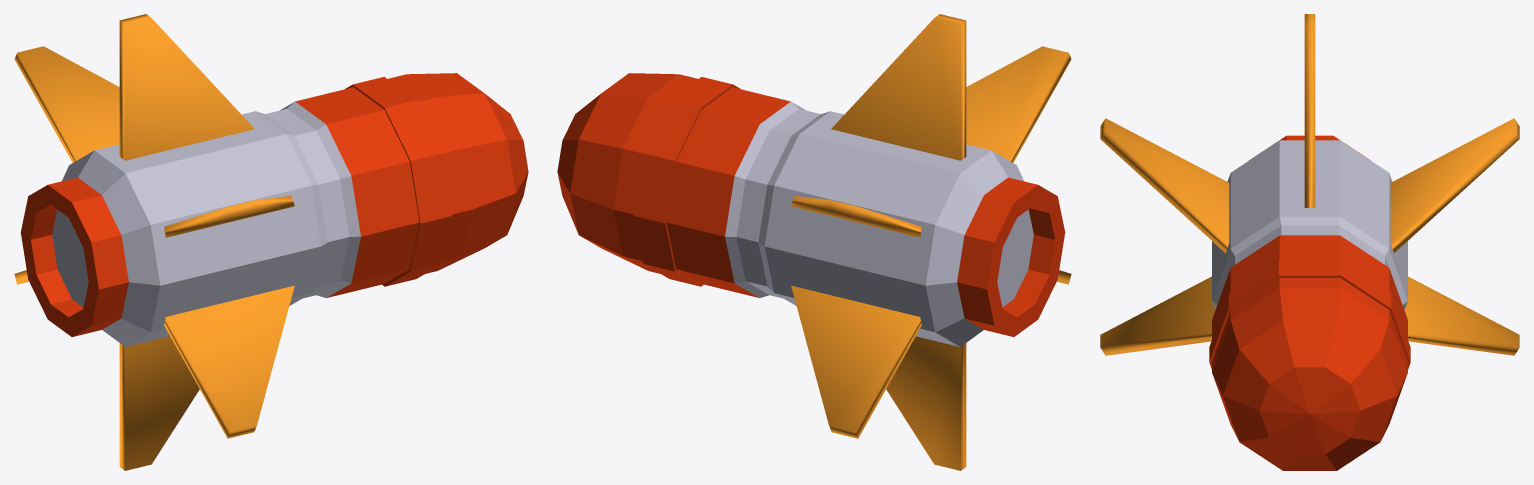
File: Rocket.fbx
3 views of the same model, side by side, from view 1: azimuth 30°, elevation 25°; view 2: azimuth 150°, elevation 25°; view 3: azimuth 270°, elevation 25° (orthographic). The views are drawn at different scales.
Parts seen in each view (by area): view 1: Mesh; view 2: Mesh; view 3: Mesh.
Boxes of the visible parts, left/top/right/bottom form: Mesh: left=14, top=14, right=528, bottom=470; Mesh: left=557, top=14, right=1071, bottom=470; Mesh: left=1100, top=14, right=1519, bottom=470.
Bounding box in the file's own units: 562 × 532 × 467.
